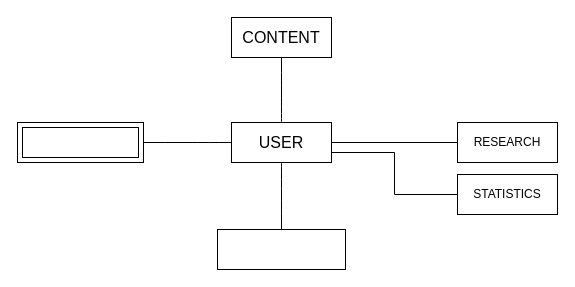
Some shapes in this 575 by 287 pixel diagram are drawn without their labels. Here are the shapes that lost their labels. From the top down, the centre of each, then its label:
At (80,142): "ACCOUNT".
At (281,249): "FORUMPOST".
